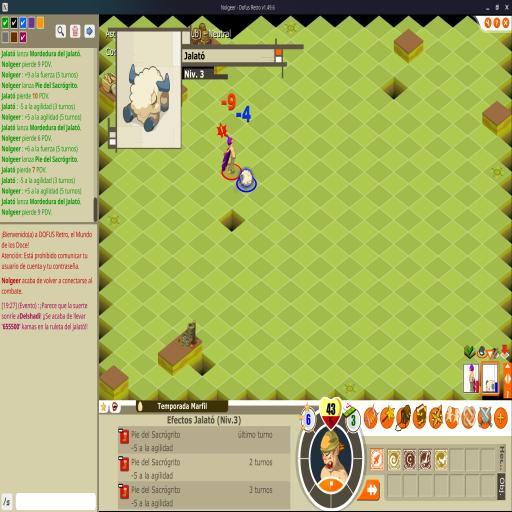Enemigos: (238, 168, 254, 188)
Personaje: (221, 137, 237, 174)
